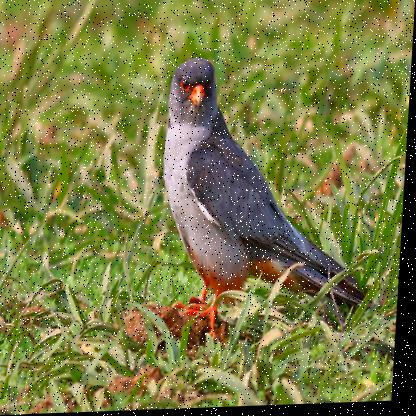Burung: (158, 54, 384, 329)
